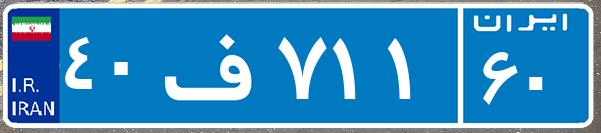0: (110, 28, 158, 105), (525, 38, 570, 115)
1: (385, 28, 445, 110), (330, 28, 385, 110)
4: (57, 26, 110, 107)
6: (475, 38, 525, 113)
7: (273, 28, 330, 110)
ف: (158, 15, 273, 115)
